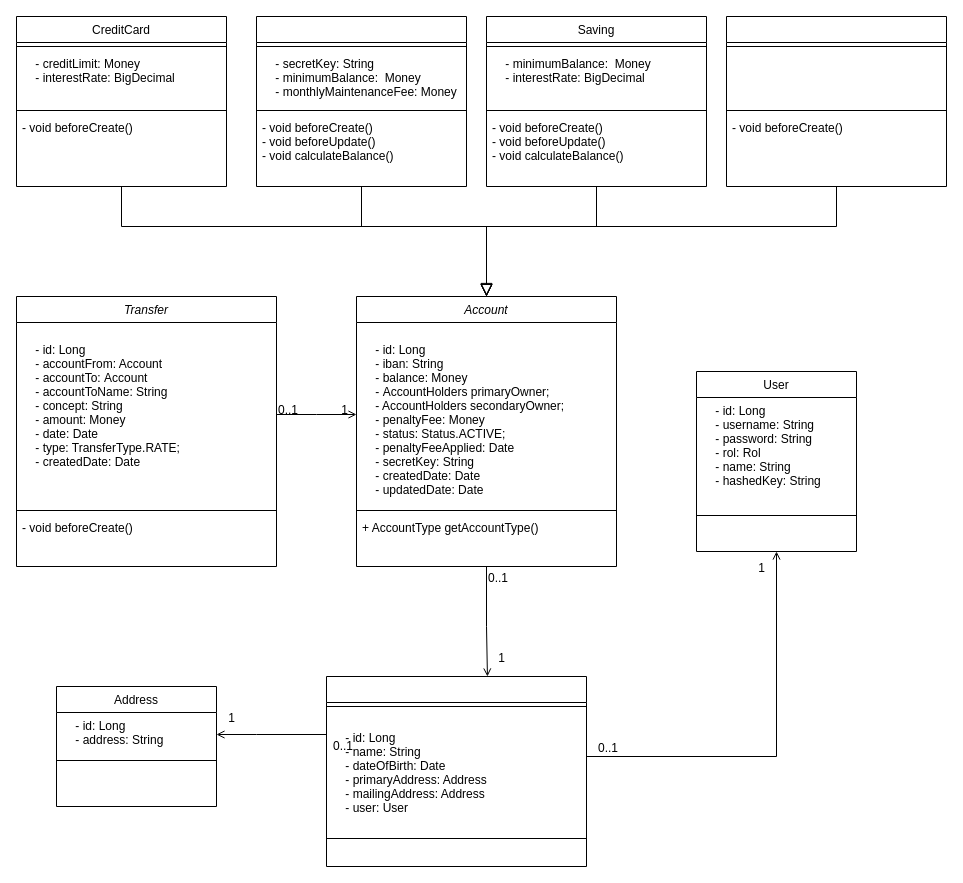
Image size: 963x883. Some labels were removed from this diagram. Each missing label, with the box of its shape:
AccountHolders: (326, 676, 586, 866)
Checking: (256, 16, 466, 186)
StudentChecking: (726, 16, 946, 186)
